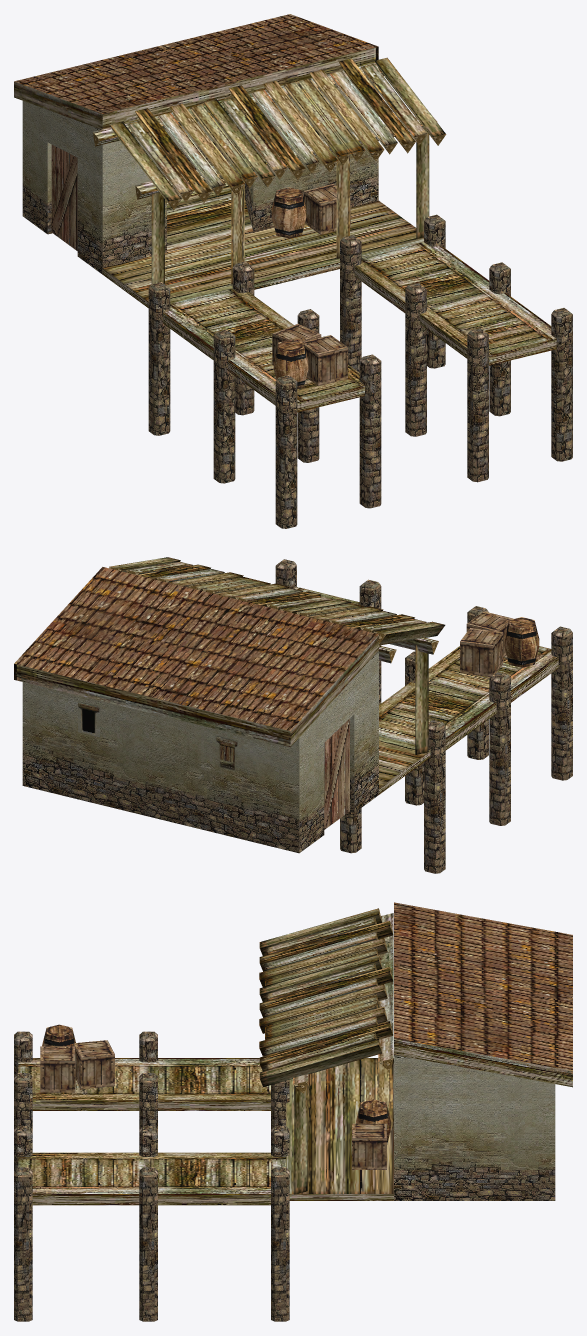
Rendered from iber_dock.dae.
The picture shows the model from 3 angles, top to bottom: view 1: azimuth 30°, elevation 25°; view 2: azimuth 150°, elevation 25°; view 3: azimuth 270°, elevation 25°; orthographic projection.
Visible parts, largest first — view 1: dock; view 2: dock; view 3: dock.
Boxes of the visible parts, box(x1,y1,x2,y2) form: dock: box(14, 14, 572, 528); dock: box(14, 557, 572, 873); dock: box(14, 902, 572, 1321).
Size of the model in its own units: 14.78 by 24 by 13.22.
